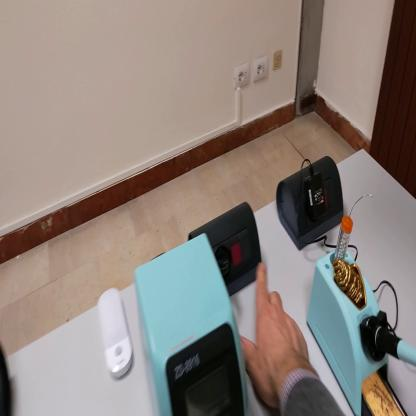hand: (241, 261, 313, 402)
socket: (187, 203, 261, 299), (277, 154, 347, 254)
welder base: (303, 208, 409, 414)
welder probe tip: (374, 325, 416, 367)
welder station: (131, 227, 249, 415)
